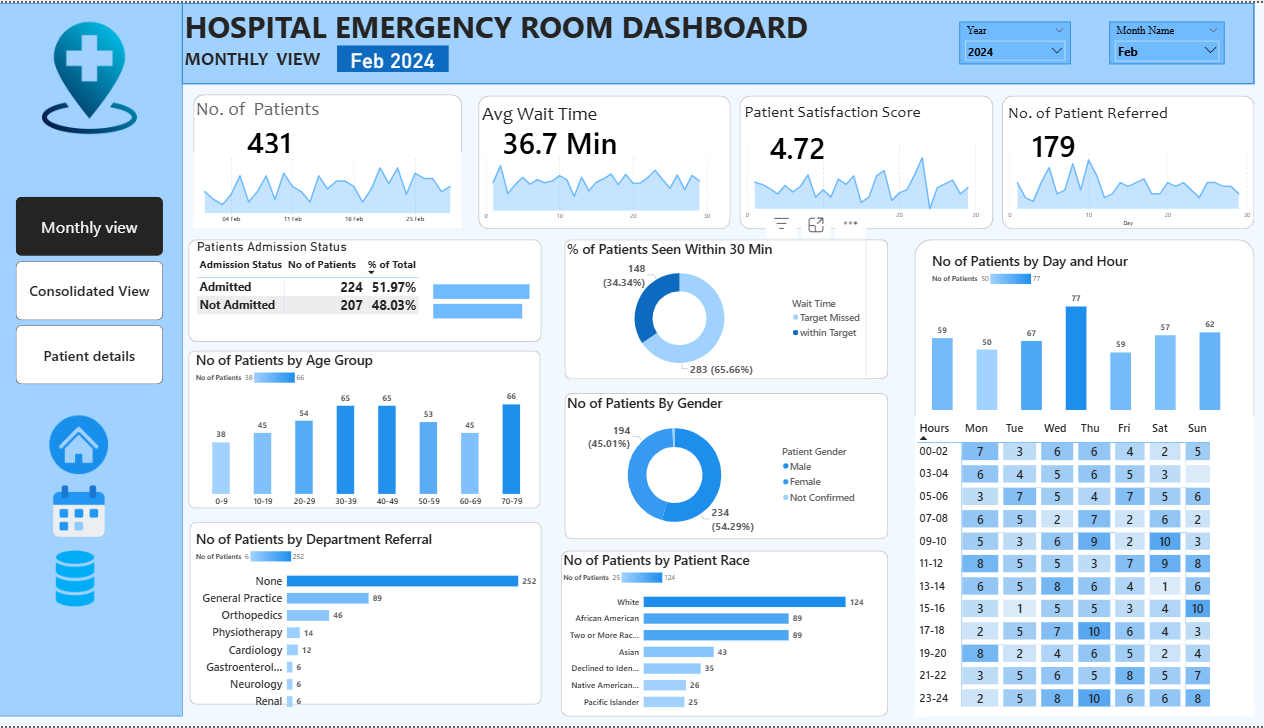

What the dashboard file says about the page in this screenshot:
{"tool":"powerbi","page":{"name":"Monthly view","canvas":[2500,1420],"ordinal":0},"visuals":[{"type":"shape","box":[9.8,0,364.1,1400],"z":0},{"type":"shape","box":[372.9,0,2105,159.5],"z":1000},{"type":"textbox","box":[374,0,1252.4,108.3],"z":2000},{"type":"shape","box":[395,179.1,527.5,260.1],"z":3000},{"type":"textbox","box":[374,81.2,285.4,78.7],"z":4000},{"type":"card","fields":{"Values":["Hospital ER_Data.No of Patients"]},"box":[463.7,235.5,161.9,71.1],"z":5000},{"type":"slicer","fields":{"Values":["Date Table.Month Name"]},"box":[2193.3,36.8,225.7,83.4],"z":6000},{"type":"slicer","fields":{"Values":["Date Table.Year"]},"box":[1898.9,36.8,218.3,83.4],"z":7000},{"type":"textbox","box":[396.1,179.6,337.1,59.1],"z":8000},{"type":"areaChart","fields":{"Y":["Hospital ER_Data.No of Patients"],"Category":["Date Table.Date.Variation.Date Hierarchy.Year","Date Table.Date.Variation.Date Hierarchy.Quarter","Date Table.Date.Variation.Date Hierarchy.Month","Date Table.Date.Variation.Date Hierarchy.Day"]},"box":[395,294.4,527.5,147.2],"z":9000},{"type":"card","fields":{"Values":["Min(Date Table.Month & Year)"]},"box":[676.6,83.7,219,51.7],"z":10000},{"type":"shape","box":[954.4,181.5,495.6,262.5],"z":11000},{"type":"shape","box":[1982.3,181.5,495.6,262.5],"z":12000},{"type":"shape","box":[1467.1,181.5,498,262.5],"z":13000},{"type":"textbox","box":[956.8,188.9,245.3,61.3],"z":14000},{"type":"card","fields":{"Values":["Hospital ER_Data.Avg Wait Time"]},"box":[988.7,235.5,252.7,71.1],"z":15000},{"type":"areaChart","fields":{"Y":["Avg(Hospital ER_Data.Patient Waittime)"],"Category":["Date Table.Date.Variation.Date Hierarchy.Day"]},"box":[954.4,289.5,463.7,147.2],"z":16000},{"type":"textbox","box":[1472,188.9,368,58.9],"z":17000},{"type":"card","fields":{"Values":["Avg(Hospital ER_Data.Patient Satisfaction Score)"]},"box":[1506.4,247.8,149.7,66.2],"z":18000},{"type":"areaChart","fields":{"Category":["Date Table.Date.Variation.Date Hierarchy.Day"],"Y":["Hospital ER_Data.No of Patient Referred"]},"box":[1982.3,279.7,495.6,164.4],"z":19000},{"type":"textbox","box":[1982.3,191.4,370.5,58.9],"z":20000},{"type":"card","fields":{"Values":["Hospital ER_Data.No of Patient Referred"]},"box":[2009.3,242.9,149.7,71.1],"z":21000},{"type":"shape","box":[386.3,462.6,693.8,201.8],"z":22000},{"type":"areaChart","fields":{"Category":["Date Table.Date.Variation.Date Hierarchy.Day"],"Y":["Sum(Hospital ER_Data.Patient Satisfaction Score)"]},"box":[1467.1,265,478.4,179.1],"z":23000},{"type":"pivotTable","title":"Patients Admission Status","fields":{"Rows":["Hospital ER_Data.Admission Status"],"Values":["Hospital ER_Data.No of Patients1","Divide(Hospital ER_Data.No of Patients, ScopedEval(Hospital ER_Data.No of Patients, []))"]},"box":[398.6,462.6,452.7,201.8],"z":24000},{"type":"barChart","fields":{"Category":["Hospital ER_Data.Admission Status"],"Y":["Hospital ER_Data.No of Patients"]},"box":[861.1,519.2,263.3,125.5],"z":25000},{"type":"shape","box":[386.3,681.5,691.4,310],"z":26000},{"type":"clusteredColumnChart","fields":{"Y":["Hospital ER_Data.No of Patients"],"Category":["Hospital ER_Data.Age Group"]},"box":[396.1,681.5,681.5,317.4],"z":27000},{"type":"shape","box":[388.7,1018.6,691.4,359.2],"z":28000},{"type":"clusteredBarChart","fields":{"Category":["Hospital ER_Data.Department Referral"],"Y":["Hospital ER_Data.No of Patients"]},"box":[395,1032.9,682,368],"z":29000},{"type":"shape","box":[1123.6,463.7,635.4,274.8],"z":30000},{"type":"donutChart","title":"% of Patients Seen Within 30 Min","fields":{"Category":["Hospital ER_Data.Wait Time"],"Y":["Hospital ER_Data.No of Patients"]},"box":[1123.6,463.7,593.7,274.8],"z":31000},{"type":"shape","box":[1123.6,765.4,635.4,287],"z":32000},{"type":"donutChart","title":"No of Patients By Gender","fields":{"Category":["Hospital ER_Data.Patient Gender"],"Y":["Hospital ER_Data.No of Patients"]},"box":[1123.6,765.4,583.9,287],"z":33000},{"type":"shape","box":[1116.3,1074.6,642.8,326.3],"z":34000},{"type":"clusteredBarChart","fields":{"Y":["Hospital ER_Data.No of Patients"],"Category":["Hospital ER_Data.Patient Race"]},"box":[1116.3,1074.6,601.1,326.3],"z":35000},{"type":"shape","box":[1810.6,463.7,667.3,937.2],"z":36000},{"type":"pivotTable","fields":{"Rows":["Hospital ER_Data.Waiting Interval"],"Columns":["Date Table.Day Name"],"Values":["Hospital ER_Data.No of Patients"]},"box":[1810.6,812.1,667.3,588.8],"z":37000},{"type":"columnChart","title":"No of Patients by Day and Hour","fields":{"Category":["Date Table.Day Name"],"Y":["Hospital ER_Data.No of Patient Referred"]},"box":[1840,488.2,579,316.5],"z":38000},{"type":"image","box":[76.1,29.4,230.6,235.5],"z":39000},{"type":"pageNavigator","box":[46.6,380.3,289.5,368],"z":40000},{"type":"image","box":[100.6,804.7,139.8,125.1],"z":41000},{"type":"image","box":[115.3,942.1,110.4,110.4],"z":42000},{"type":"image","box":[100.6,1062.3,125.1,134.9],"z":43000}]}

Visuals, with their boxes in screenshot pixels (x1, y1, x2, y2), scaled from the page's 2500x1420 canvas onto the 1264x728 screenshot:
shape: box=[5, 0, 189, 718]
shape: box=[189, 0, 1253, 82]
textbox: box=[189, 0, 822, 56]
shape: box=[200, 92, 466, 225]
textbox: box=[189, 42, 333, 82]
card - Hospital ER_Data.No of Patients: box=[234, 121, 316, 157]
slicer - Date Table.Month Name: box=[1109, 19, 1223, 62]
slicer - Date Table.Year: box=[960, 19, 1070, 62]
textbox: box=[200, 92, 371, 122]
areaChart - Hospital ER_Data.No of Patients x Date Table.Date.Variation.Date Hierarchy.Year: box=[200, 151, 466, 226]
card - Min(Date Table.Month & Year): box=[342, 43, 453, 69]
shape: box=[483, 93, 733, 228]
shape: box=[1002, 93, 1253, 228]
shape: box=[742, 93, 994, 228]
textbox: box=[484, 97, 608, 128]
card - Hospital ER_Data.Avg Wait Time: box=[500, 121, 628, 157]
areaChart - Avg(Hospital ER_Data.Patient Waittime) x Date Table.Date.Variation.Date Hierarchy.Day: box=[483, 148, 717, 224]
textbox: box=[744, 97, 930, 127]
card - Avg(Hospital ER_Data.Patient Satisfaction Score): box=[762, 127, 837, 161]
areaChart - Date Table.Date.Variation.Date Hierarchy.Day x Hospital ER_Data.No of Patient Referred: box=[1002, 143, 1253, 228]
textbox: box=[1002, 98, 1190, 128]
card - Hospital ER_Data.No of Patient Referred: box=[1016, 125, 1092, 161]
shape: box=[195, 237, 546, 341]
areaChart - Date Table.Date.Variation.Date Hierarchy.Day x Sum(Hospital ER_Data.Patient Satisfaction Score): box=[742, 136, 984, 228]
"Patients Admission Status" pivotTable: box=[202, 237, 430, 341]
barChart - Hospital ER_Data.Admission Status x Hospital ER_Data.No of Patients: box=[435, 266, 568, 331]
shape: box=[195, 349, 545, 508]
clusteredColumnChart - Hospital ER_Data.No of Patients x Hospital ER_Data.Age Group: box=[200, 349, 545, 512]
shape: box=[197, 522, 546, 706]
clusteredBarChart - Hospital ER_Data.Department Referral x Hospital ER_Data.No of Patients: box=[200, 530, 545, 718]
shape: box=[568, 238, 889, 379]
"% of Patients Seen Within 30 Min" donutChart: box=[568, 238, 868, 379]
shape: box=[568, 392, 889, 540]
"No of Patients By Gender" donutChart: box=[568, 392, 863, 540]
shape: box=[564, 551, 889, 718]
clusteredBarChart - Hospital ER_Data.No of Patients x Hospital ER_Data.Patient Race: box=[564, 551, 868, 718]
shape: box=[915, 238, 1253, 718]
pivotTable - Hospital ER_Data.Waiting Interval x Date Table.Day Name: box=[915, 416, 1253, 718]
"No of Patients by Day and Hour" columnChart: box=[930, 250, 1223, 413]
image: box=[38, 15, 155, 136]
pageNavigator: box=[24, 195, 170, 384]
image: box=[51, 413, 122, 477]
image: box=[58, 483, 114, 540]
image: box=[51, 545, 114, 614]
